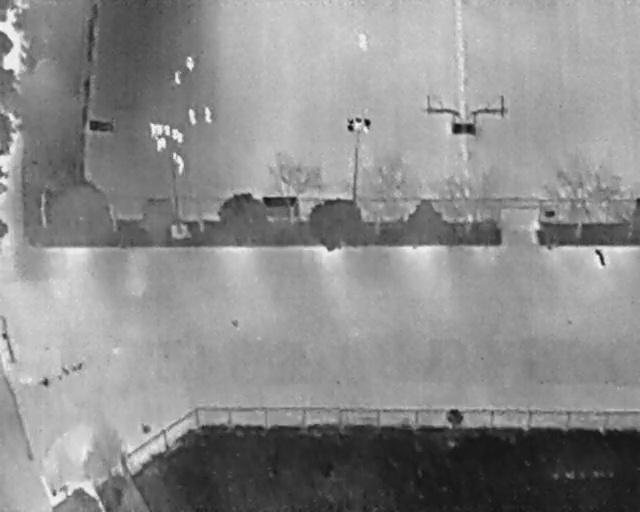Person: (173, 152, 184, 175), (357, 31, 369, 52), (204, 106, 214, 124), (188, 108, 197, 125), (186, 56, 194, 71), (174, 70, 182, 85), (149, 122, 157, 137), (160, 137, 167, 149), (156, 139, 162, 152)
